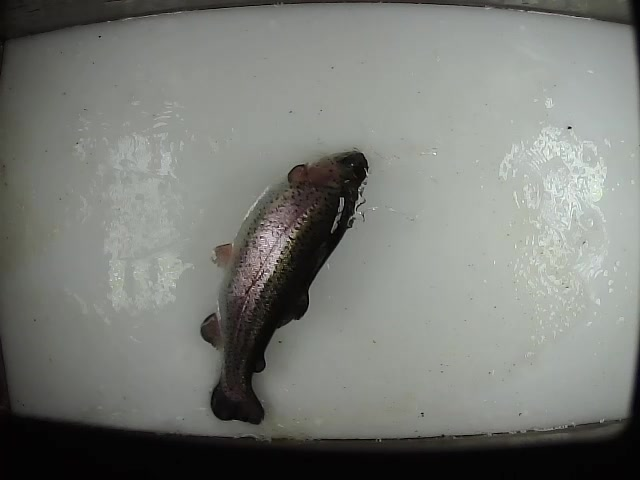fish: (200, 147, 369, 430)
